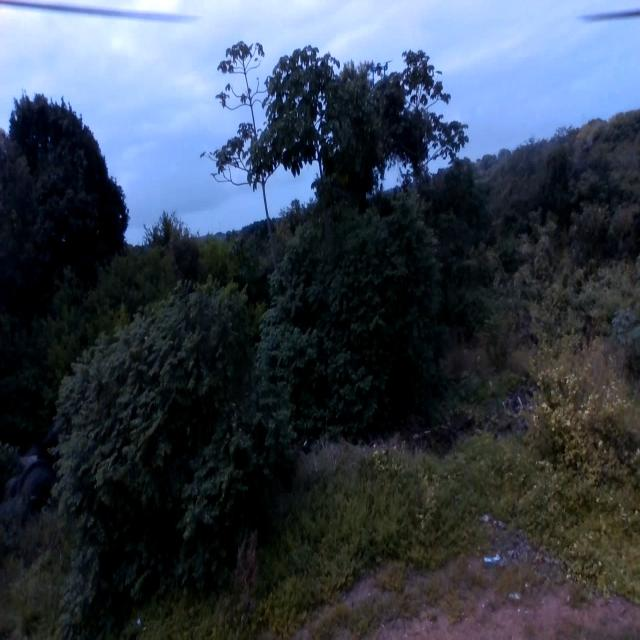-uav-: (364, 53, 394, 86)
